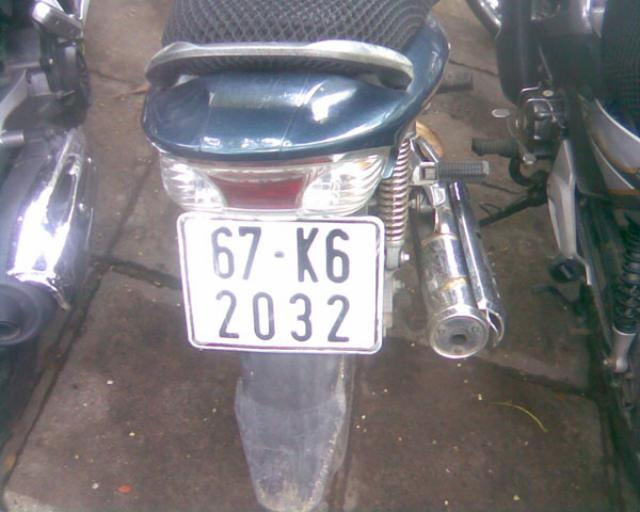plate: (176, 210, 386, 356)
